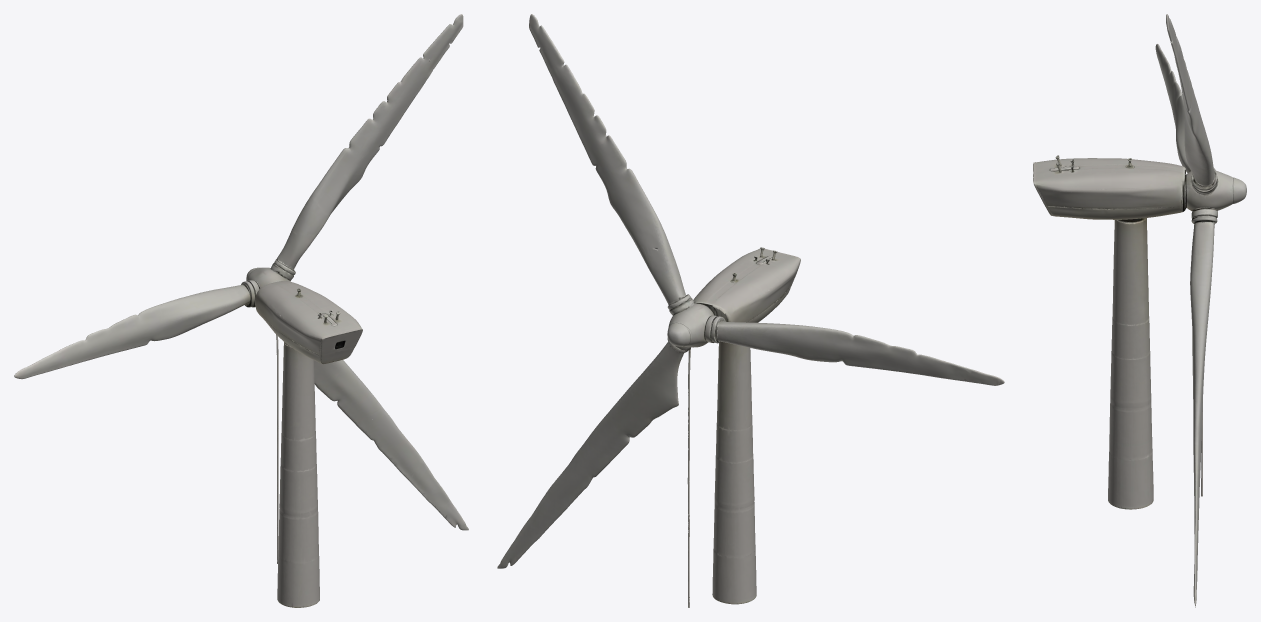
The model's file is wind.glb.
The picture shows the model from 3 angles, left to right: view 1: azimuth 30°, elevation 25°; view 2: azimuth 150°, elevation 25°; view 3: azimuth 270°, elevation 25°; orthographic projection. The views are drawn at different scales.
Visible parts, largest first — view 1: tripo_node_3069d0d4-1b64-4413-ae77-6631e22e2339; view 2: tripo_node_3069d0d4-1b64-4413-ae77-6631e22e2339; view 3: tripo_node_3069d0d4-1b64-4413-ae77-6631e22e2339.
Boxes of the visible parts, x1,y1,x2,y2 form: tripo_node_3069d0d4-1b64-4413-ae77-6631e22e2339: (14,14,468,607); tripo_node_3069d0d4-1b64-4413-ae77-6631e22e2339: (497,14,1004,607); tripo_node_3069d0d4-1b64-4413-ae77-6631e22e2339: (1033,14,1246,607).
Bounding box in the file's own units: 0.9146 × 0.9819 × 0.3265.
Materials: 1 (1 with a texture image).
